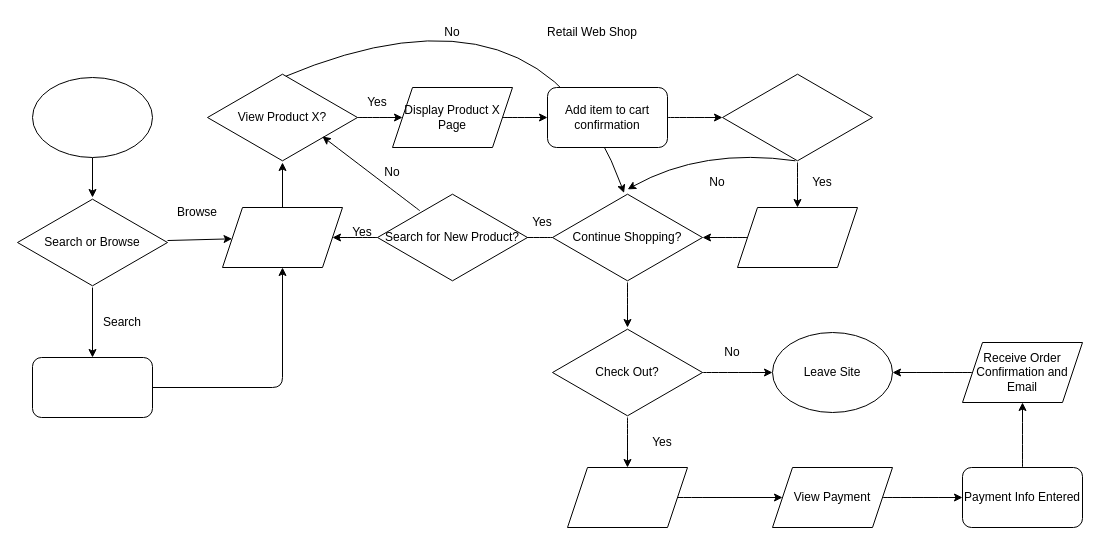
The diagram is 1100 pixels wide and 545 high, and some of its shapes have lost their labels. Here are the shapes that lost their labels. From the top down, the centre of each, then its label:
At [92,117]: "Enter Site".
At [797,117]: "Add Product X to Cart?".
At [282,237]: "View Products".
At [797,237]: "Product Added to cart".
At [92,387]: "Enter Input/Apply Filters".
At [627,497]: "View Cart".
